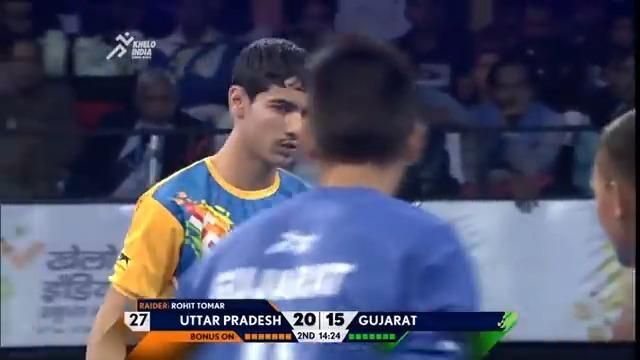Raider: (84, 36, 316, 358)
referee: (63, 65, 217, 202), (457, 51, 595, 198)
